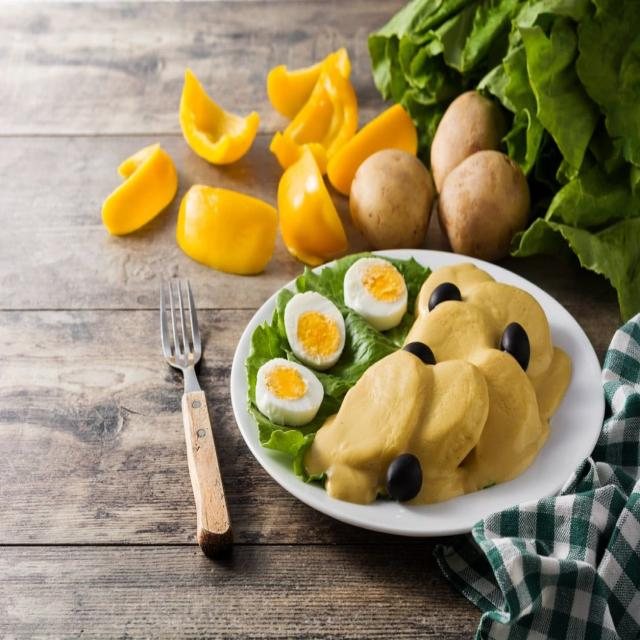huevos: (278, 287, 354, 376), (252, 356, 328, 432), (341, 254, 412, 335)
